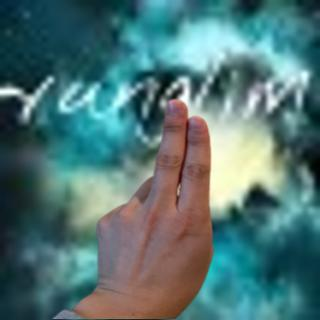DHAVE: (87, 93, 219, 317)
